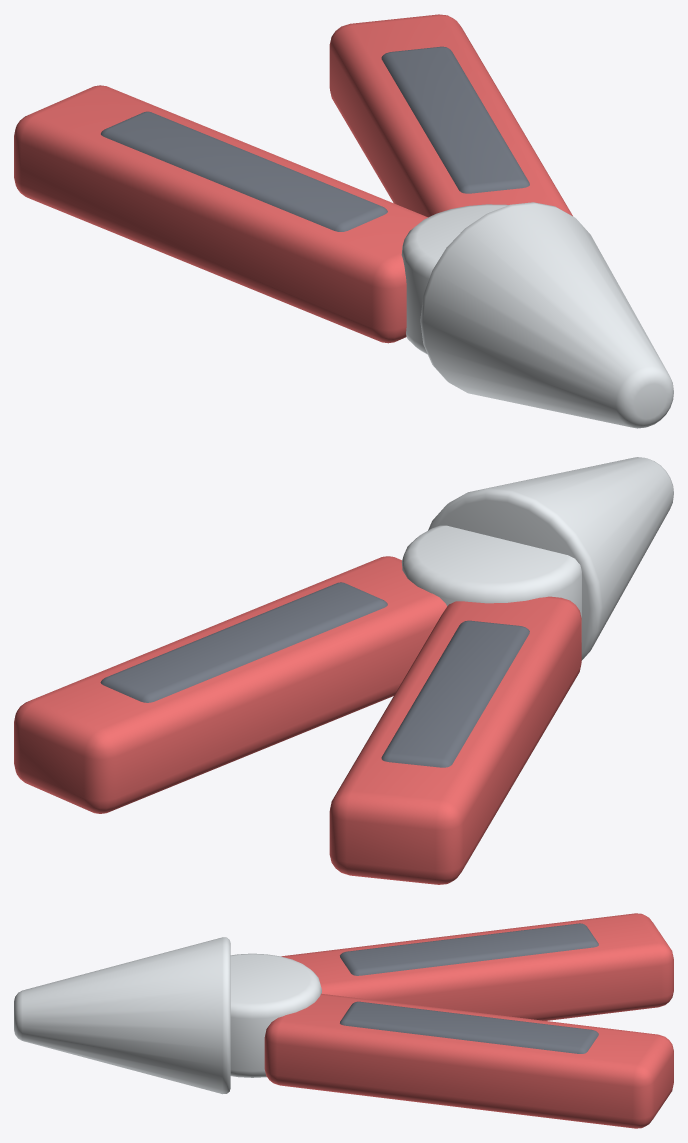
File: SM_MultiTool.fbx
3 renders of one model, top to bottom at view 1: azimuth 30°, elevation 25°; view 2: azimuth 150°, elevation 25°; view 3: azimuth 270°, elevation 25°, orthographic. The views are drawn at different scales.
Parts seen in each view (by area): view 1: SM_MultiTool; view 2: SM_MultiTool; view 3: SM_MultiTool.
Part boxes in pixels (box(x1,y1,x2,y2)): SM_MultiTool: box(14, 14, 673, 428); SM_MultiTool: box(14, 457, 673, 884); SM_MultiTool: box(14, 913, 673, 1128).
Size of the model in its own units: 22.16 by 8.98 by 37.67.
